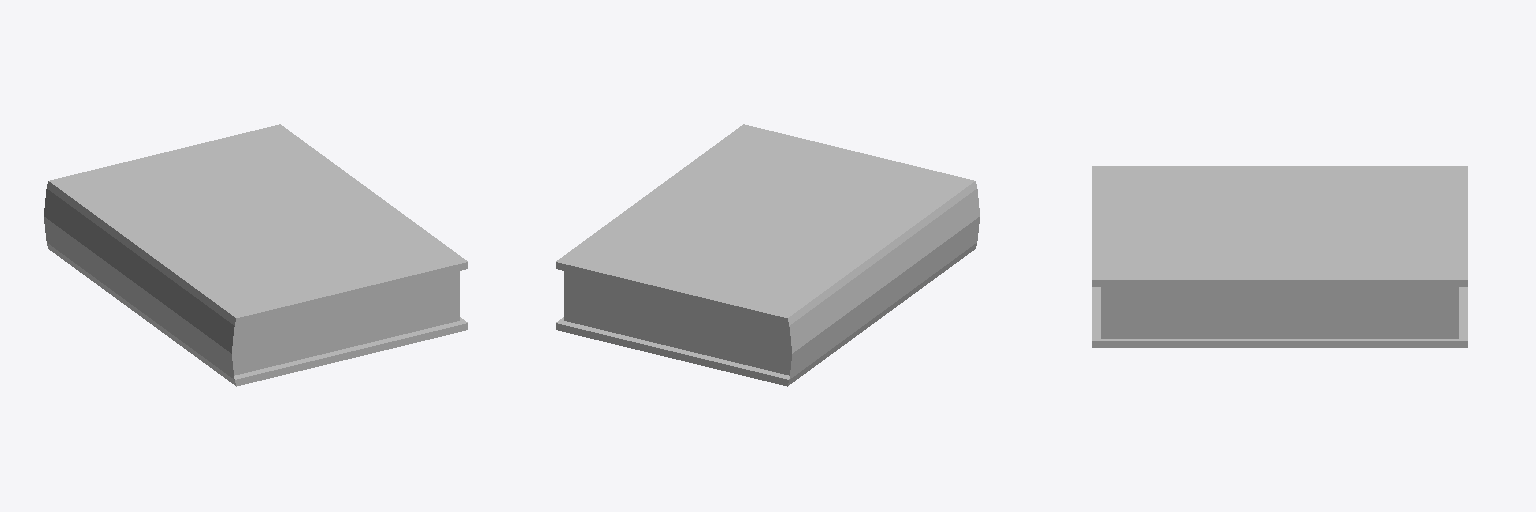
The model's file is Ksiazka.obj.
3 renders of one model, left to right at view 1: azimuth 30°, elevation 25°; view 2: azimuth 150°, elevation 25°; view 3: azimuth 270°, elevation 25°, orthographic.
Visible parts, largest first — view 1: Ksiazka_Cube; view 2: Ksiazka_Cube; view 3: Ksiazka_Cube.
Part boxes in pixels (x1,y1,x2,y2): Ksiazka_Cube: (44,124,467,386); Ksiazka_Cube: (556,124,979,386); Ksiazka_Cube: (1092,166,1467,347).
Bounding box in the file's own units: 1.45 × 0.4 × 2.